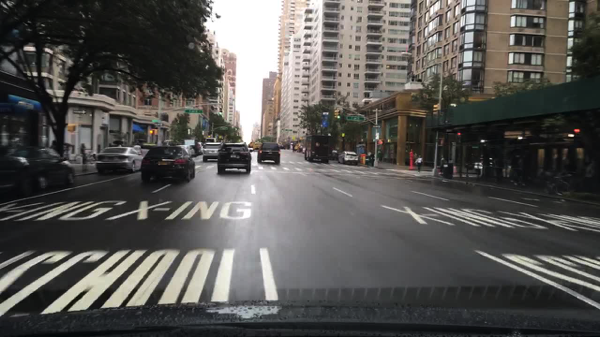car: (0, 146, 75, 199), (139, 145, 197, 188), (94, 145, 142, 176), (216, 143, 253, 176), (257, 142, 281, 164), (202, 142, 220, 162), (138, 143, 158, 158), (337, 151, 359, 164), (175, 145, 195, 158), (187, 142, 202, 156), (163, 140, 179, 147), (198, 141, 206, 154), (330, 151, 340, 160), (244, 143, 253, 152), (252, 142, 261, 150), (290, 142, 298, 150), (294, 143, 301, 151), (299, 144, 305, 153), (206, 139, 216, 144), (279, 143, 286, 149)
motor: (537, 166, 577, 200)
person: (413, 155, 423, 174), (81, 142, 88, 165), (439, 154, 446, 176), (49, 140, 59, 150), (378, 147, 382, 162), (371, 153, 374, 167), (291, 142, 294, 153), (367, 150, 371, 156)
traffic light: (433, 104, 441, 117), (67, 124, 76, 132), (150, 128, 158, 136), (377, 139, 384, 146), (438, 138, 444, 146), (334, 110, 338, 119), (338, 109, 341, 119)
traffic sign: (323, 112, 330, 128), (184, 109, 204, 114), (346, 117, 365, 121), (73, 110, 86, 114), (154, 123, 165, 127), (151, 119, 161, 123), (284, 128, 293, 132), (359, 146, 364, 153), (220, 127, 228, 131), (373, 125, 381, 129), (375, 132, 379, 140), (472, 145, 478, 150), (291, 134, 295, 140), (202, 130, 205, 137), (341, 132, 345, 137), (219, 134, 222, 139)
truck: (304, 134, 330, 162)
